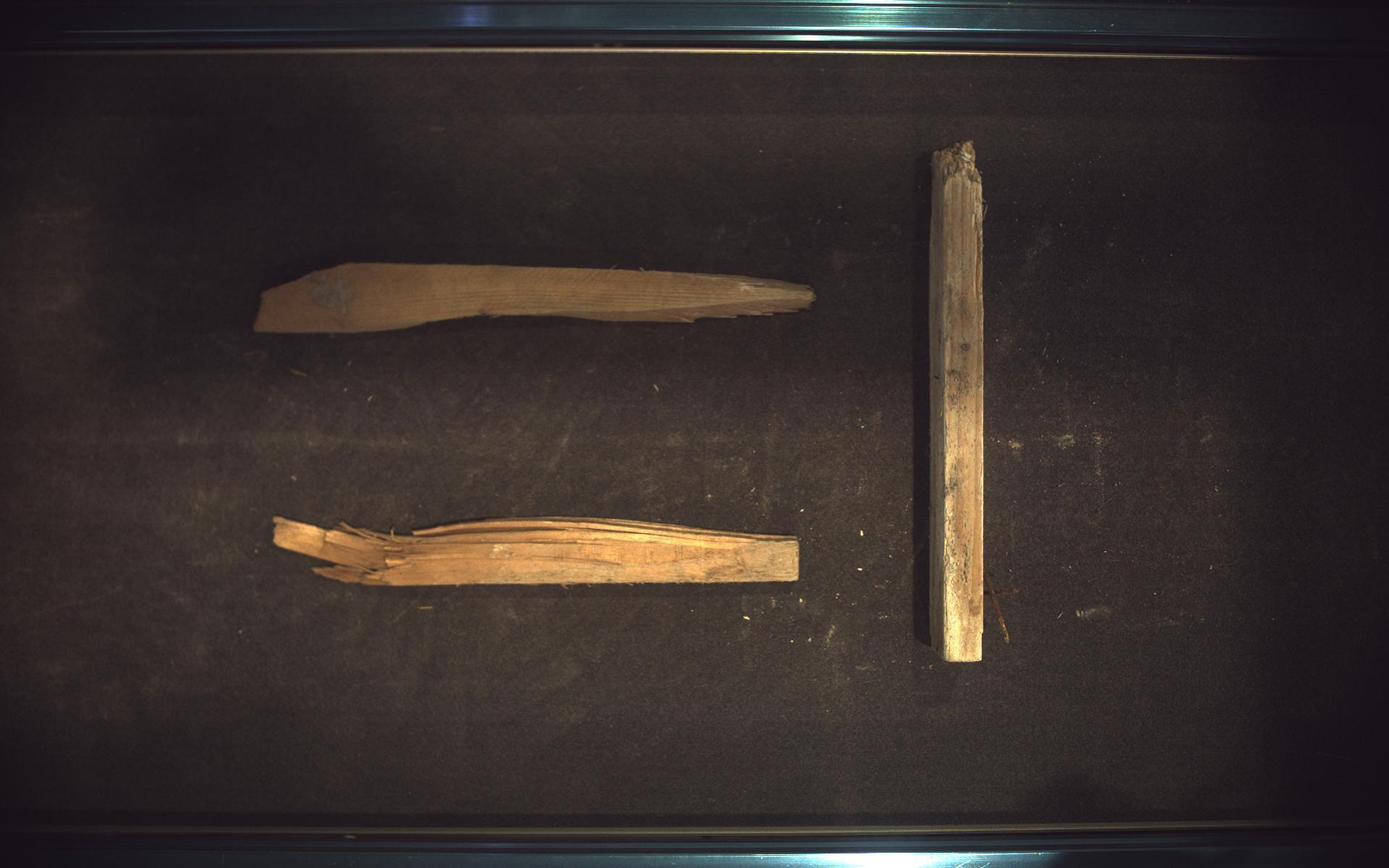wood: (253, 263, 816, 333), (273, 517, 800, 587), (932, 140, 986, 663)
